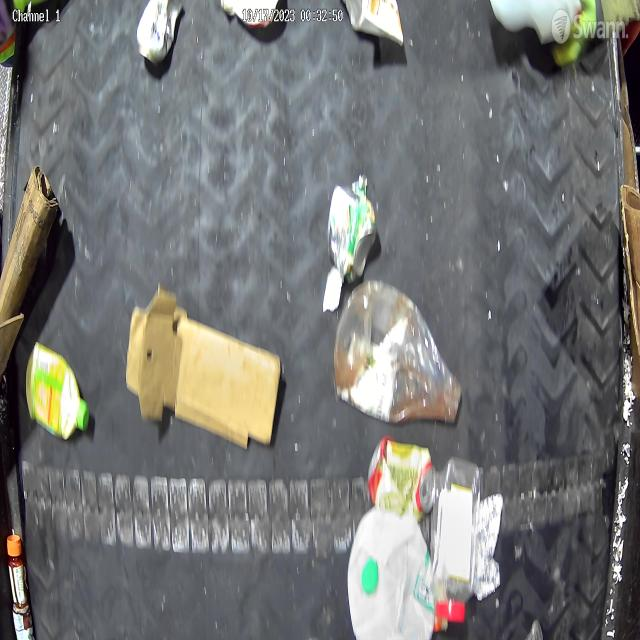can: (368, 435, 435, 521), (327, 176, 378, 284), (136, 0, 181, 64)
milk_jug: (349, 508, 435, 640)
non_white_jug: (25, 340, 90, 440)
plastic_bottle: (332, 280, 462, 422), (436, 457, 482, 622)
